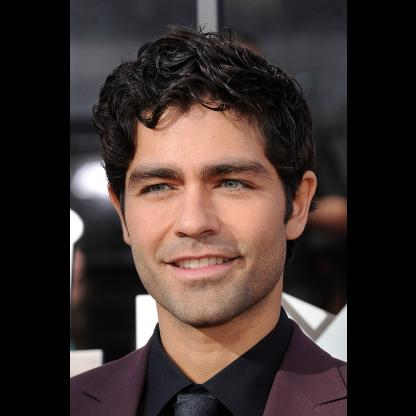Male: (106, 90, 314, 326)
